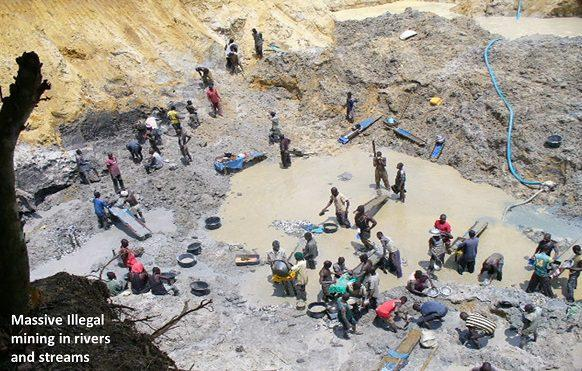MiningTool: (305, 300, 327, 317), (190, 278, 209, 296), (271, 259, 289, 277), (544, 131, 564, 147), (203, 216, 223, 230), (176, 252, 196, 266), (183, 238, 200, 253), (157, 271, 175, 280), (322, 222, 338, 232), (428, 95, 442, 106), (440, 284, 452, 296), (427, 286, 439, 298), (383, 117, 397, 126), (563, 259, 574, 269), (350, 123, 361, 130), (519, 304, 527, 312)
Person: (458, 310, 498, 350), (319, 188, 352, 232), (525, 246, 554, 296), (335, 292, 364, 339), (376, 230, 403, 279), (374, 294, 406, 332), (287, 249, 309, 301), (456, 228, 480, 275), (412, 301, 450, 330), (354, 204, 377, 251), (519, 302, 541, 350), (528, 233, 559, 267), (564, 245, 582, 302), (104, 150, 126, 195), (150, 266, 181, 297), (317, 259, 339, 302), (355, 253, 376, 298), (120, 191, 148, 224), (433, 211, 453, 255), (404, 268, 435, 296), (371, 154, 392, 192), (477, 252, 505, 280), (91, 190, 110, 231), (265, 240, 287, 275), (141, 110, 162, 146), (299, 232, 319, 268), (129, 264, 151, 295), (73, 150, 91, 186), (165, 103, 185, 135), (426, 233, 443, 270), (175, 130, 193, 164), (276, 133, 292, 169), (104, 272, 129, 295), (143, 146, 162, 175), (394, 161, 407, 203), (223, 36, 240, 68), (195, 57, 212, 89), (119, 238, 135, 270), (206, 85, 221, 119), (331, 255, 351, 278), (250, 27, 264, 59), (267, 109, 280, 143), (186, 99, 201, 127), (343, 90, 355, 123), (343, 280, 365, 298), (472, 359, 499, 371), (127, 142, 143, 161)
ProcessingEquipment: (548, 237, 582, 302), (376, 324, 423, 371), (106, 198, 154, 241), (337, 114, 381, 145), (213, 150, 266, 175), (388, 120, 427, 147), (428, 135, 447, 164), (233, 253, 262, 267)
